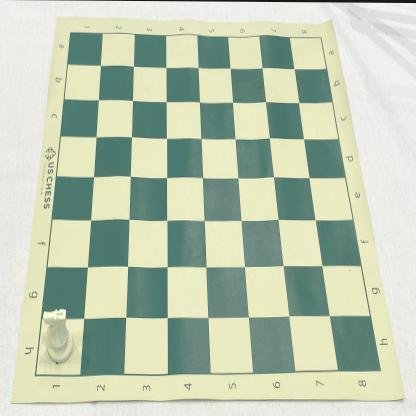white-knight: (42, 308, 75, 364)
